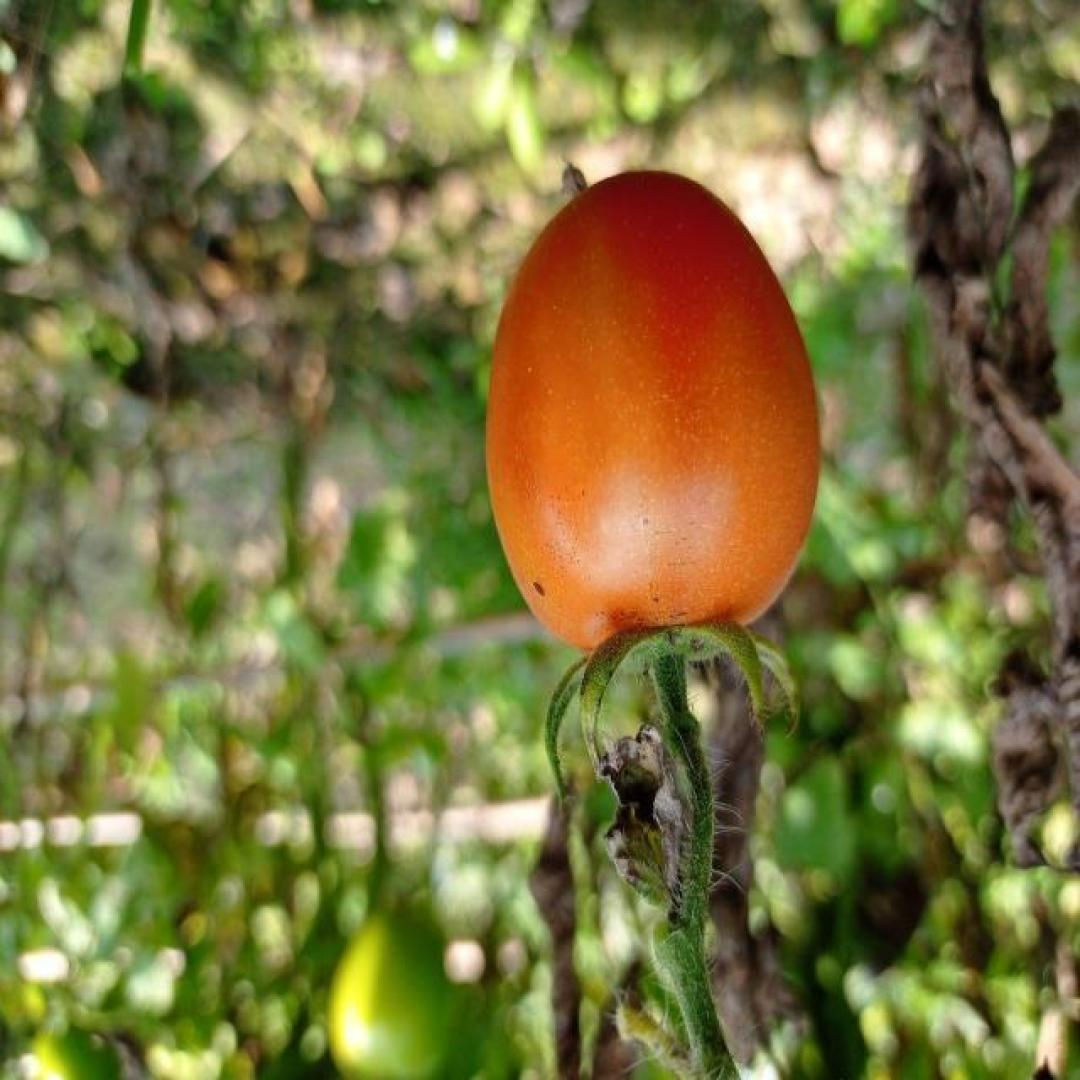setengah_matang: (481, 165, 822, 677)
